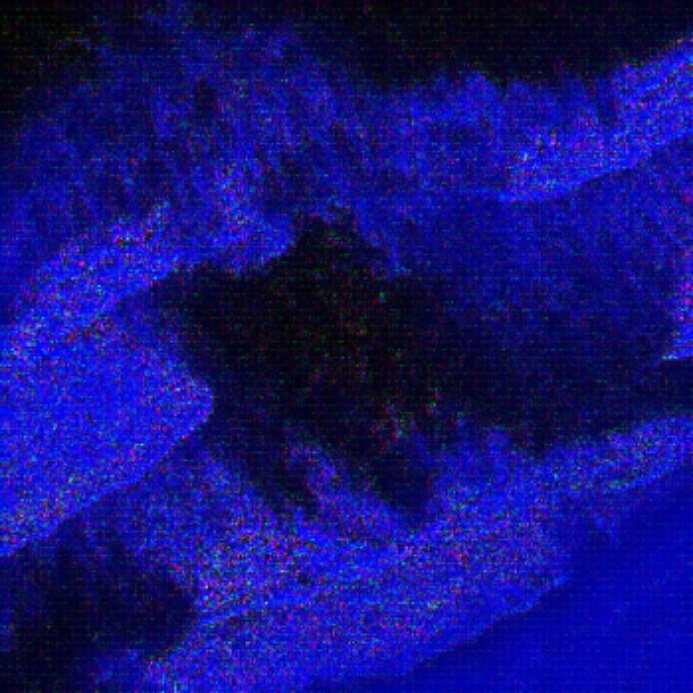rip_current: (83, 51, 538, 524)
